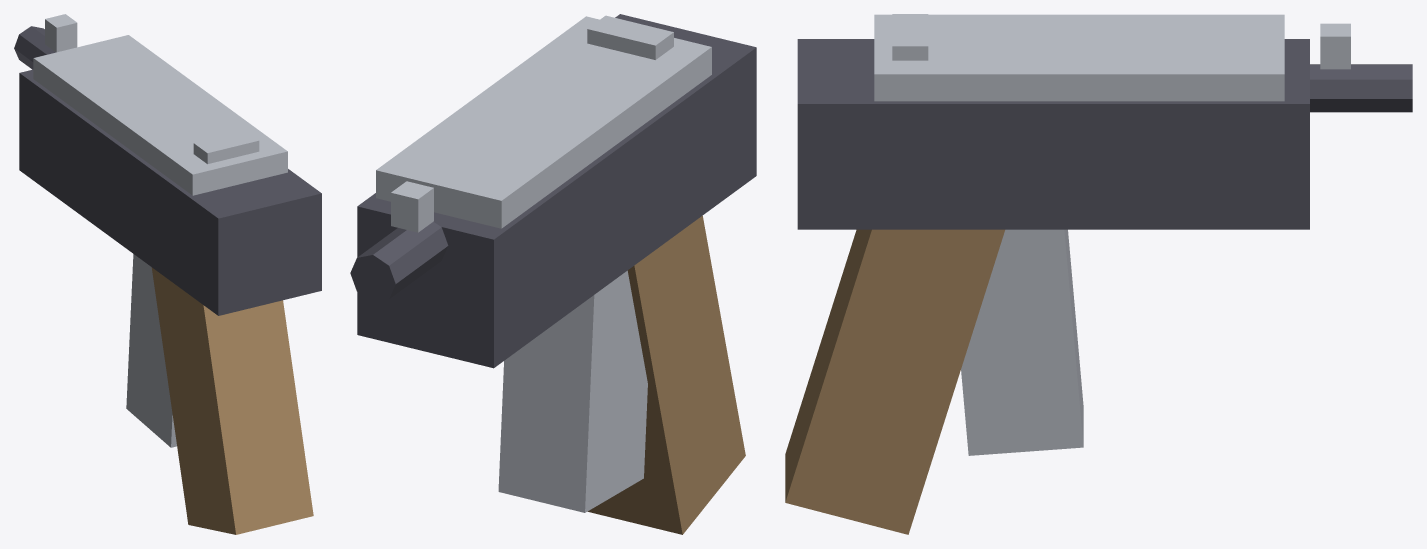
The model's file is precision.glb.
3 views of the same model, side by side, from view 1: azimuth 30°, elevation 25°; view 2: azimuth 150°, elevation 25°; view 3: azimuth 270°, elevation 25° (orthographic). The views are drawn at different scales.
Parts seen in each view (by area): view 1: body, grip, slide, magazine, sight_rear, sight_front, barrel; view 2: body, slide, magazine, grip, barrel, sight_rear, sight_front; view 3: body, grip, slide, magazine, barrel, sight_rear, sight_front.
Part boxes in pixels (box(x1,y1,x2,y2)): body: box(19, 69, 321, 315); grip: box(151, 267, 313, 534); slide: box(33, 35, 287, 195); magazine: box(126, 254, 176, 447); sight_rear: box(193, 130, 259, 164); sight_front: box(45, 14, 77, 52); barrel: box(14, 26, 55, 69); body: box(357, 14, 756, 368); slide: box(376, 16, 711, 228); magazine: box(498, 270, 647, 512); grip: box(587, 216, 745, 534); barrel: box(350, 221, 448, 302); sight_rear: box(587, 15, 673, 59); sight_front: box(391, 181, 433, 232); body: box(797, 39, 1309, 229); grip: box(785, 229, 1004, 534); slide: box(874, 14, 1284, 101); magazine: box(961, 229, 1083, 455); barrel: box(1310, 64, 1412, 112); sight_rear: box(892, 14, 928, 60); sight_front: box(1320, 23, 1350, 69).
Bounding box in the file's own units: 0.06 × 0.2068 × 0.2448.
